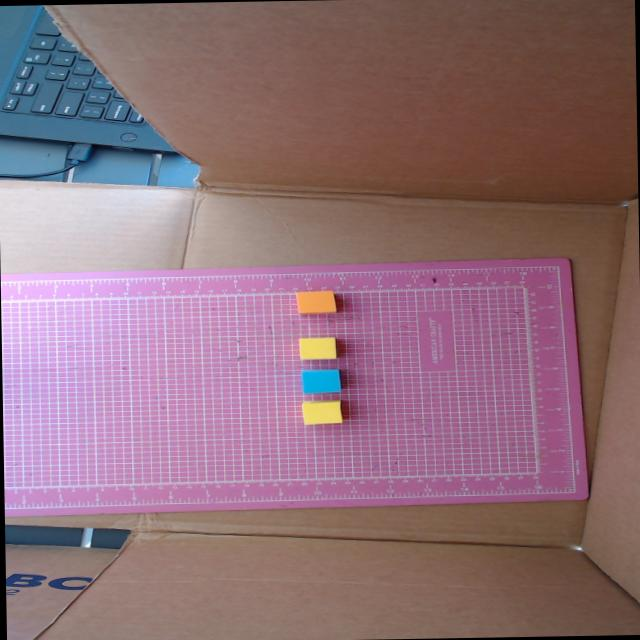bluecube: (301, 369, 340, 393)
orangecube: (295, 291, 336, 314)
yellowcube: (300, 400, 341, 424), (297, 337, 335, 359)
